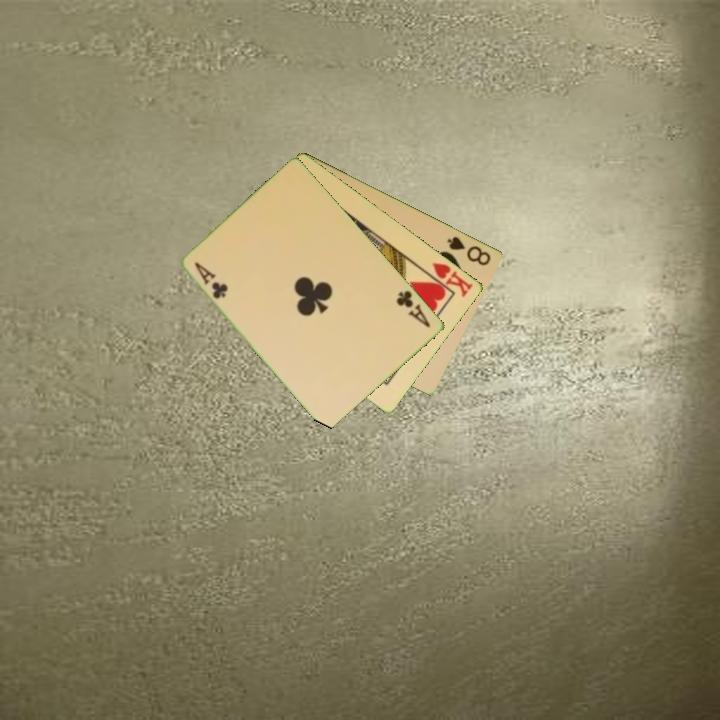8s: (444, 232, 494, 269)
Ac: (393, 287, 434, 330), (191, 258, 231, 302)
Kh: (421, 258, 476, 300)
